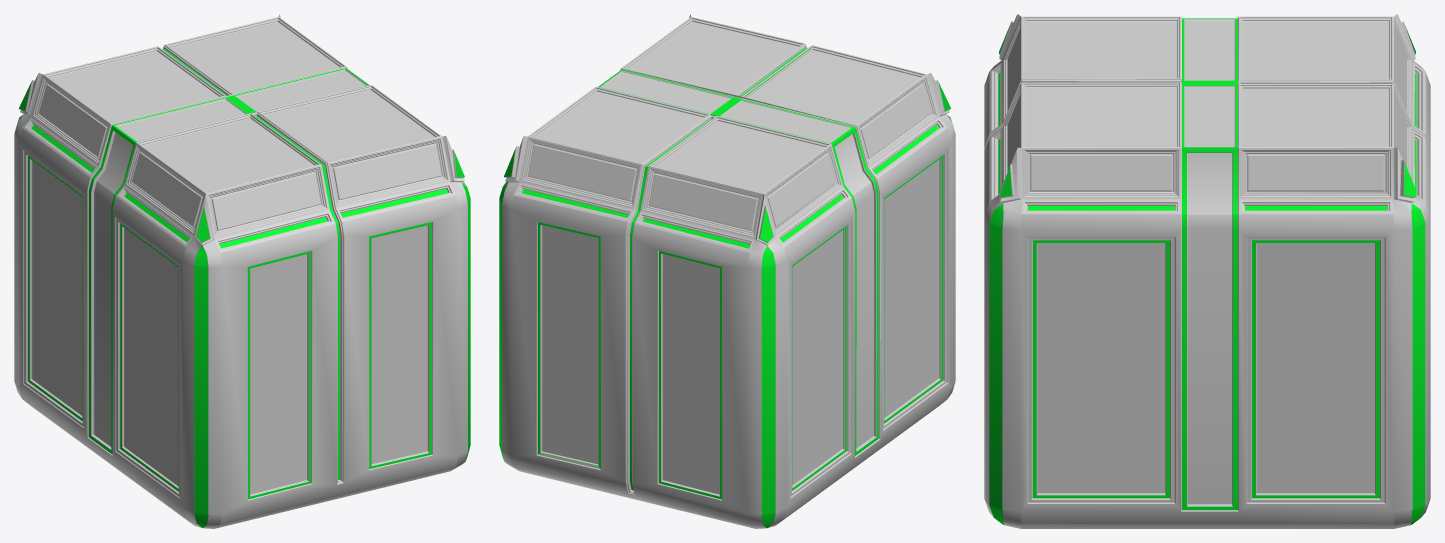
Rendered from texturingCubeCentral2.fbx.
3 renders of one model, left to right at view 1: azimuth 30°, elevation 25°; view 2: azimuth 150°, elevation 25°; view 3: azimuth 270°, elevation 25°, orthographic. The views are drawn at different scales.
Parts seen in each view (by area): view 1: CubeCentral, CubeCentralEmission; view 2: CubeCentral, CubeCentralEmission; view 3: CubeCentral, CubeCentralEmission.
Boxes of the visible parts, left/top/right/bottom form: CubeCentral: left=14, top=14, right=467, bottom=528; CubeCentralEmission: left=18, top=49, right=470, bottom=527; CubeCentral: left=502, top=14, right=955, bottom=528; CubeCentralEmission: left=499, top=48, right=951, bottom=527; CubeCentral: left=984, top=14, right=1430, bottom=528; CubeCentralEmission: left=989, top=18, right=1425, bottom=524.
Bounding box in the file's own units: 174 × 196 × 209.
